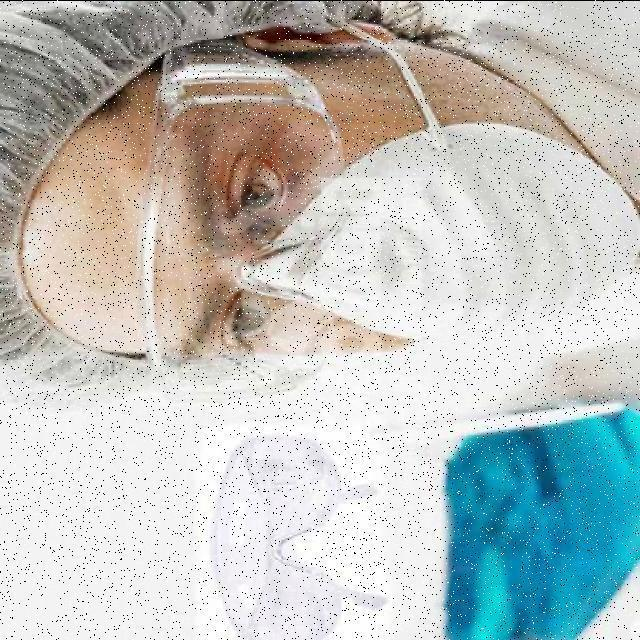Goggles: (140, 37, 354, 411)
